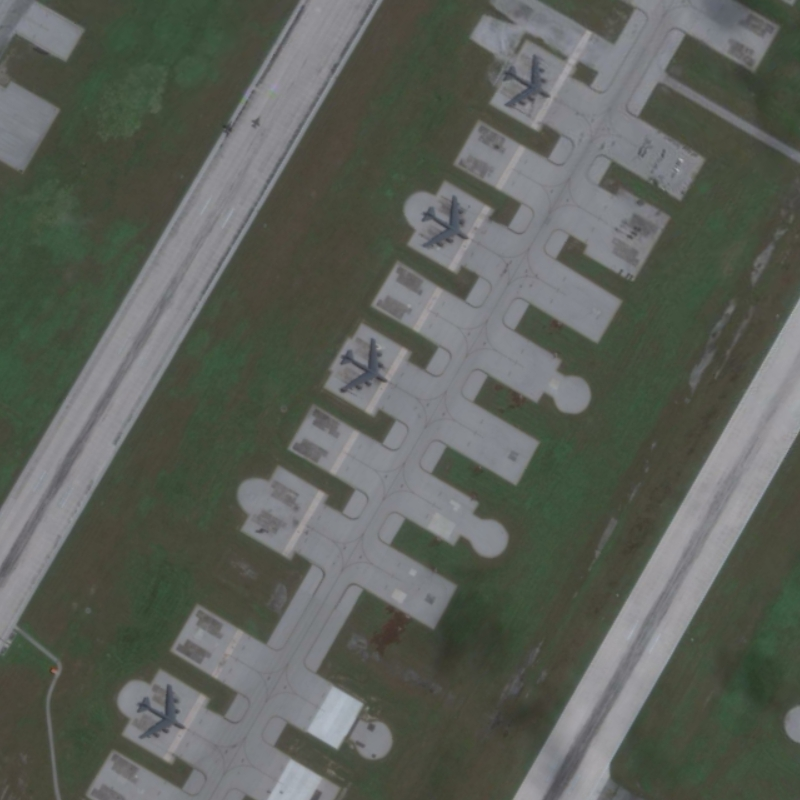A8: (133, 683, 190, 742), (417, 192, 473, 252), (496, 51, 554, 108), (337, 337, 392, 395)
